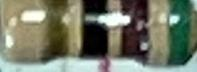Black: (80, 0, 108, 56)
Brown: (119, 1, 149, 63)
Green: (168, 0, 190, 63)
Side-Gold: (43, 1, 69, 60)
